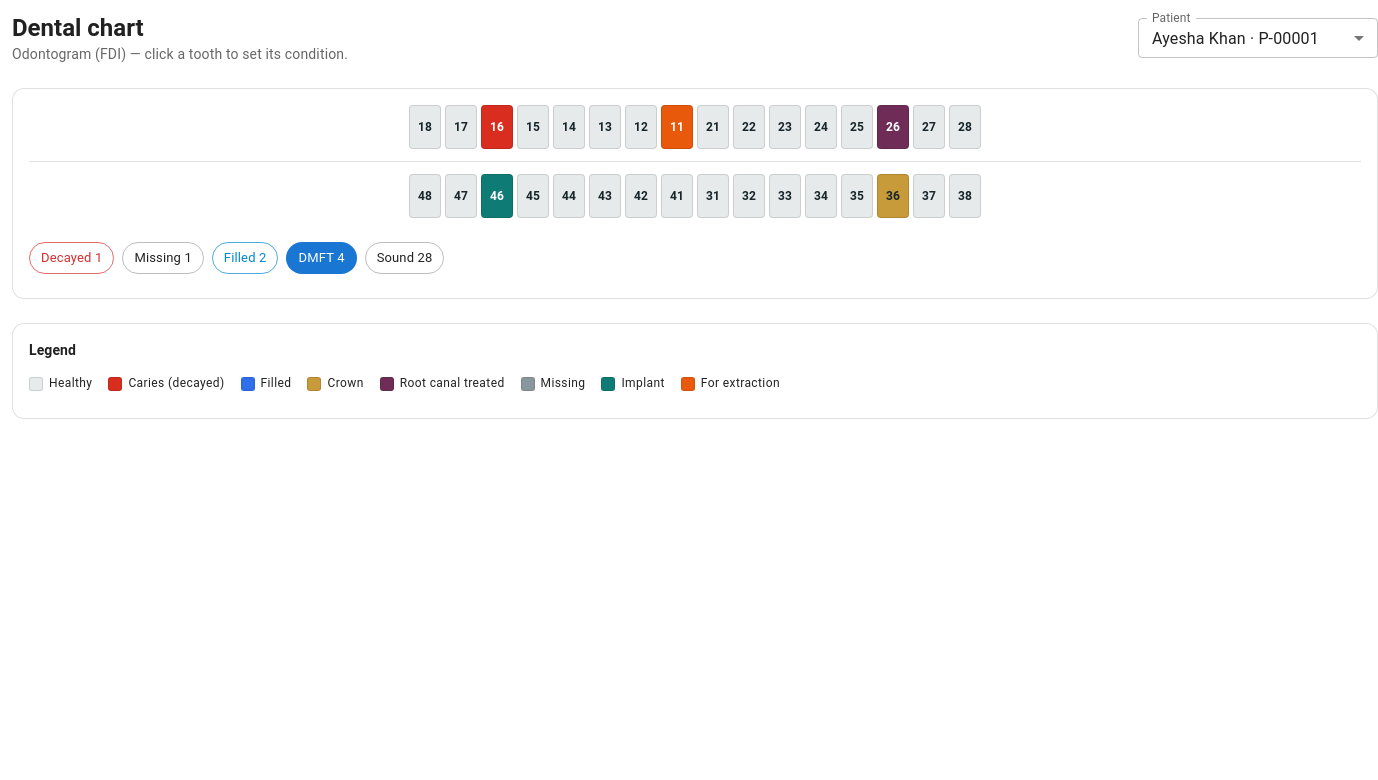
it: the DMFT index is the server’s, not a recount of what is on screen › shows a refused write and leaves the tooth as the server still has it
This screenshot has width=1378, height=780.
Check: the text "DMFT 4" is shown, box [298,250,345,265]
Click the text titled "36 · crown".
click(893, 196)  # box [877,174,909,218]
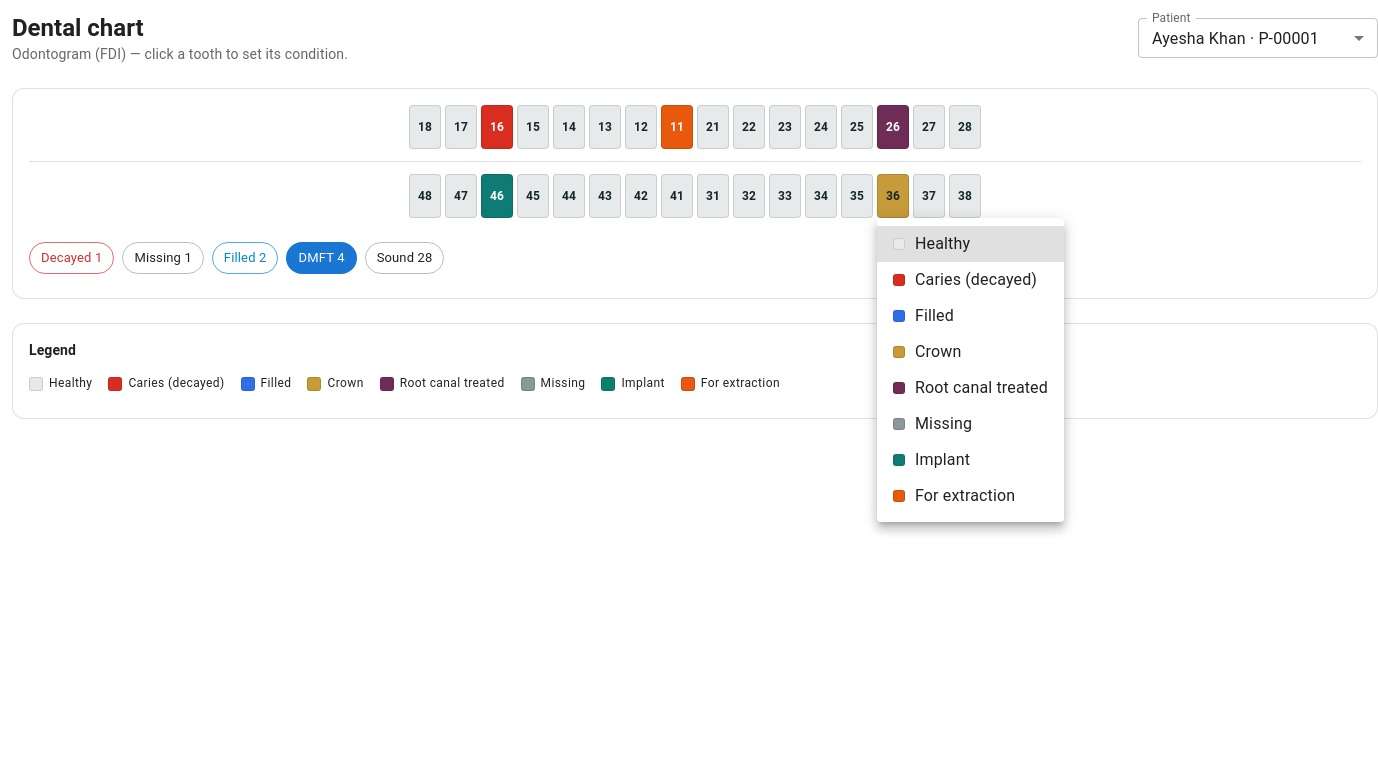
Click the menu item "Caries (decayed)".
click(965, 280)  # box [893,270,1037,289]
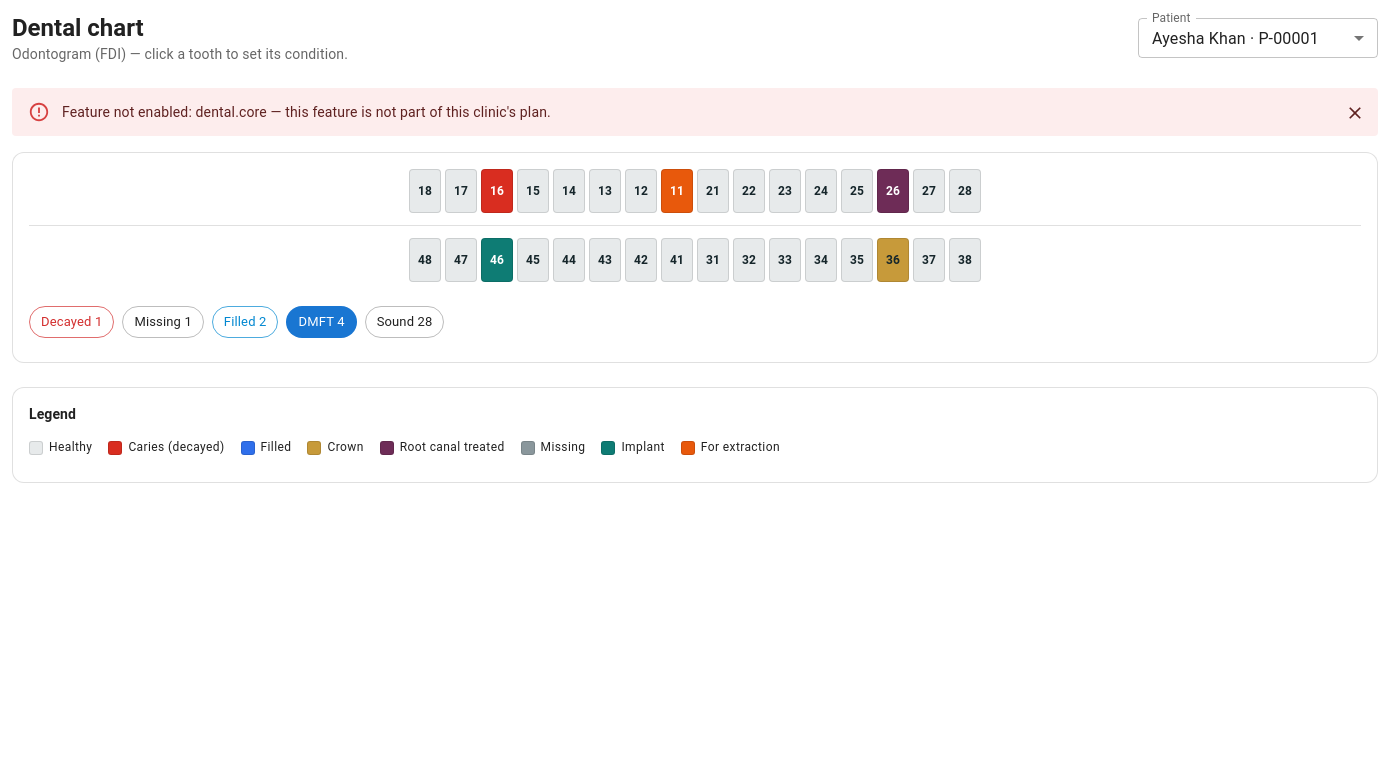
Check: the text titled "36 · crown" is shown, box [877,238,909,282]
Check: the text "not part of this clinic's plan" is shown, box [62,104,551,120]
